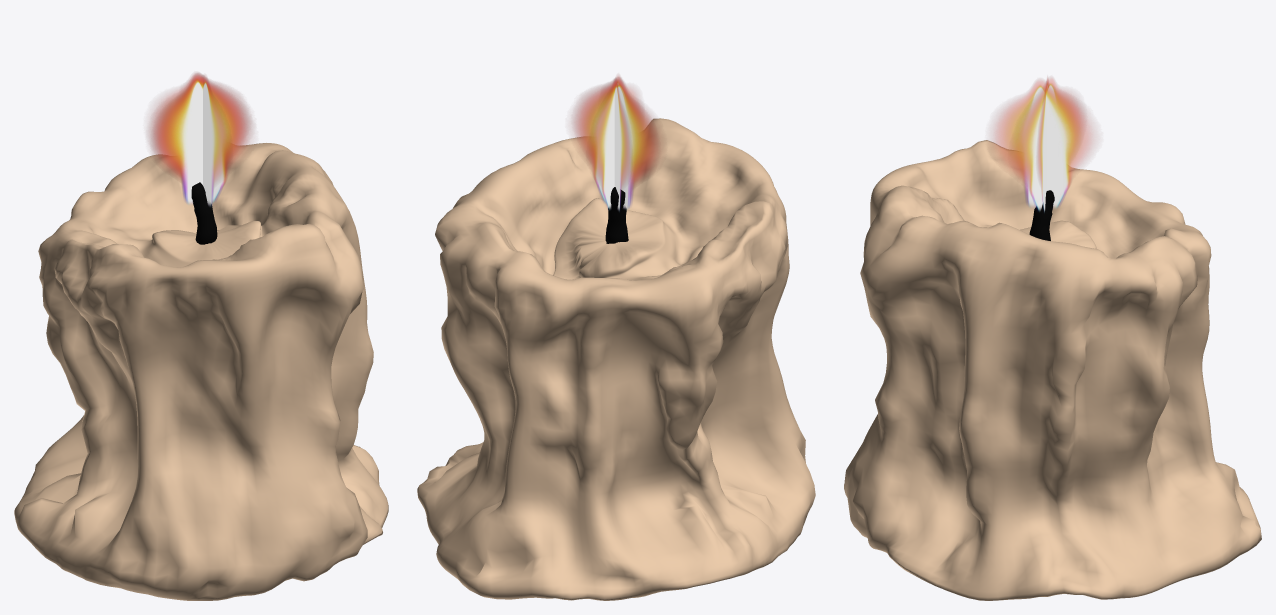
File: mum.glb
The picture shows the model from 3 angles, left to right: view 1: azimuth 30°, elevation 25°; view 2: azimuth 150°, elevation 25°; view 3: azimuth 270°, elevation 25°; orthographic projection.
Visible parts, largest first — view 1: Cylinder; view 2: Cylinder; view 3: Cylinder.
Boxes of the visible parts, <box> form: Cylinder: <box>14,72,388,600</box>; Cylinder: <box>417,75,815,600</box>; Cylinder: <box>844,77,1261,600</box>.
Bounding box in the file's own units: 2.12 × 2.89 × 2.3.
3 materials, 1 textured.
